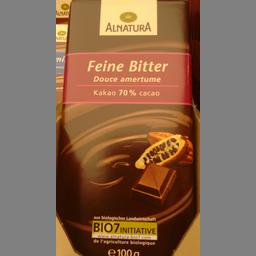chocolate: (61, 0, 192, 255)
